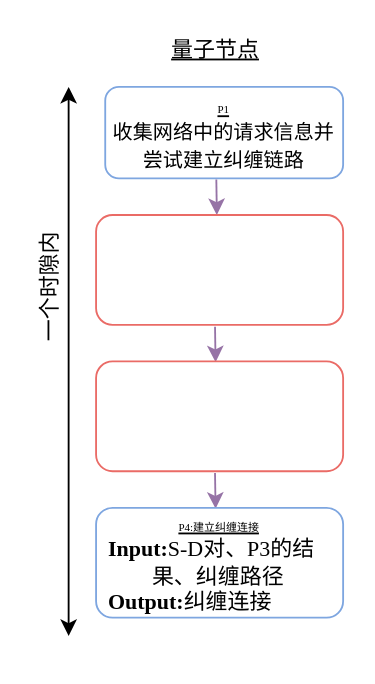
Some shapes in this 375 by 684 pixel diagram are drawn without their labels. Here are the shapes that lost their labels. From the top down, the centre of each, then its label:
pixel 218 269: P2:路由 Input: 网络拓扑和S-D对 Output: 针对各请求所选的纠缠路径
pixel 218 415: P3:纯化与资源分配 Input: 纠缠路径和S-D对 Output: 纯化策略与资源分配方案
